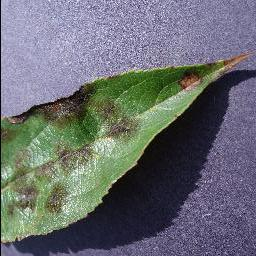apple healthy: (0, 46, 255, 244)
